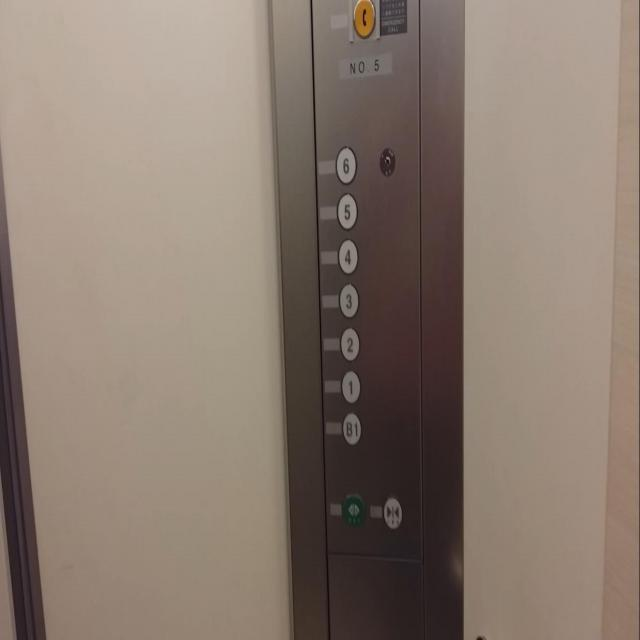1: (341, 367, 361, 405)
2: (340, 323, 360, 361)
3: (338, 282, 359, 318)
4: (338, 236, 358, 277)
5: (336, 191, 358, 231)
6: (335, 143, 357, 185)
B1: (341, 410, 362, 446)
call: (353, 0, 375, 38)
close: (383, 496, 403, 530)
open: (343, 492, 365, 528)
